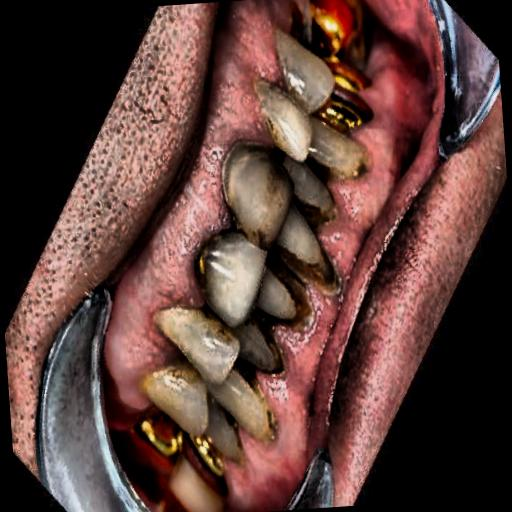Calculus: (164, 82, 394, 404)
